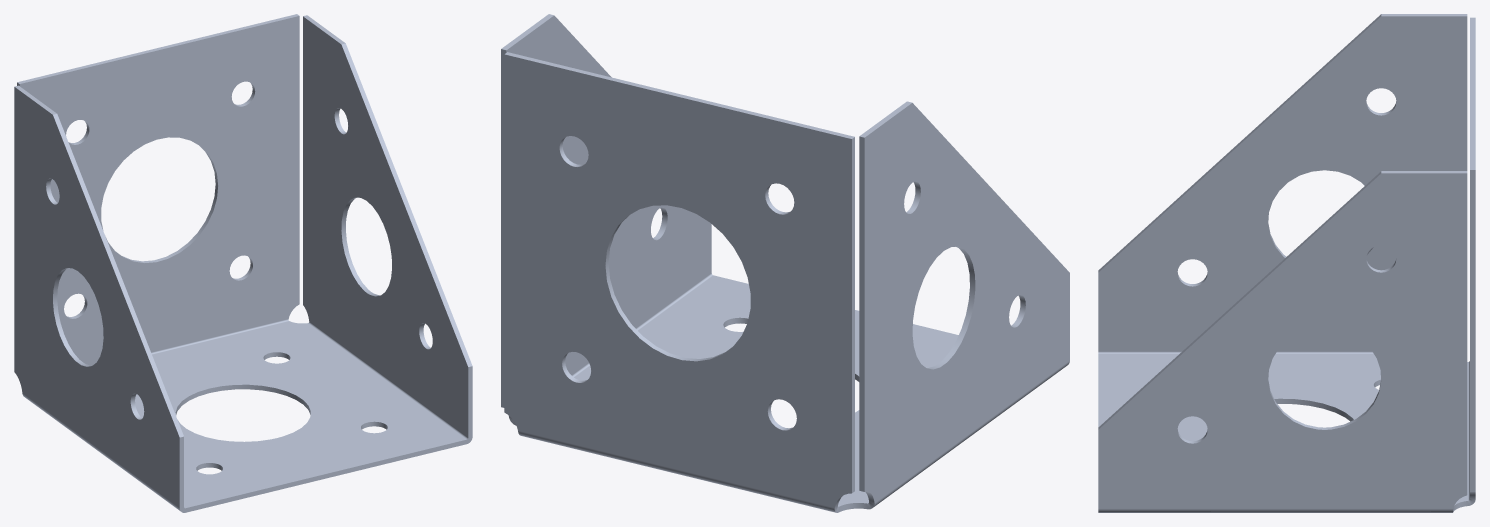
3 views of the same model, side by side, from view 1: azimuth 30°, elevation 25°; view 2: azimuth 150°, elevation 25°; view 3: azimuth 270°, elevation 25° (orthographic). The views are drawn at different scales.
Visible parts, largest first — view 1: cw-07-02; view 2: cw-07-02; view 3: cw-07-02.
Boxes of the visible parts, x1=… form: cw-07-02: x1=14, y1=14, x2=472, y2=512; cw-07-02: x1=501, y1=14, x2=1069, y2=512; cw-07-02: x1=1098, y1=14, x2=1475, y2=512.
Size of the model in its own units: 0.1 by 0.1 by 0.1.
